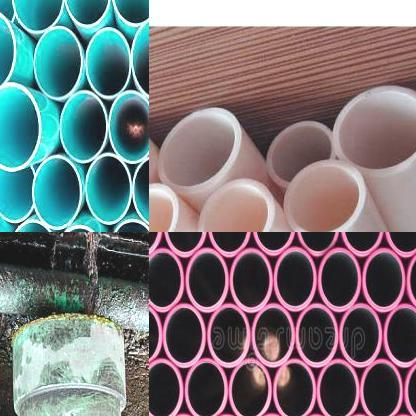pipe: (333, 86, 416, 177), (157, 107, 241, 194), (285, 160, 366, 232), (266, 121, 336, 188), (198, 179, 275, 232), (32, 156, 82, 230), (0, 82, 41, 172), (34, 26, 82, 100), (60, 90, 108, 163), (85, 153, 132, 225), (85, 27, 130, 98), (108, 90, 149, 163), (229, 248, 273, 312), (362, 248, 406, 312), (185, 248, 229, 312), (318, 248, 362, 312), (163, 304, 206, 368), (339, 304, 382, 367), (274, 248, 316, 312), (252, 304, 294, 367), (208, 304, 250, 367), (296, 304, 338, 367), (184, 359, 228, 416), (228, 358, 271, 416), (360, 359, 403, 416), (316, 359, 359, 416), (273, 359, 316, 416), (149, 248, 184, 311), (0, 164, 36, 223), (384, 304, 416, 368), (149, 359, 184, 416), (12, 0, 64, 33), (149, 184, 179, 232), (132, 17, 149, 99), (0, 9, 16, 94), (63, 0, 110, 26), (133, 155, 149, 228), (340, 232, 384, 257), (297, 232, 340, 257), (208, 232, 251, 257), (164, 232, 206, 257), (252, 232, 295, 255), (112, 0, 149, 24), (149, 304, 162, 367), (385, 232, 416, 257), (404, 362, 416, 416), (406, 250, 416, 313)
